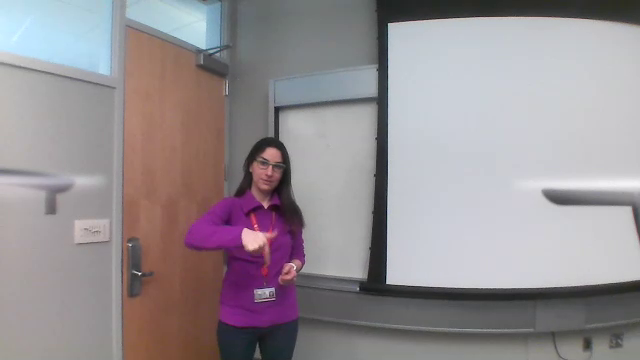down: (240, 225, 272, 270)
